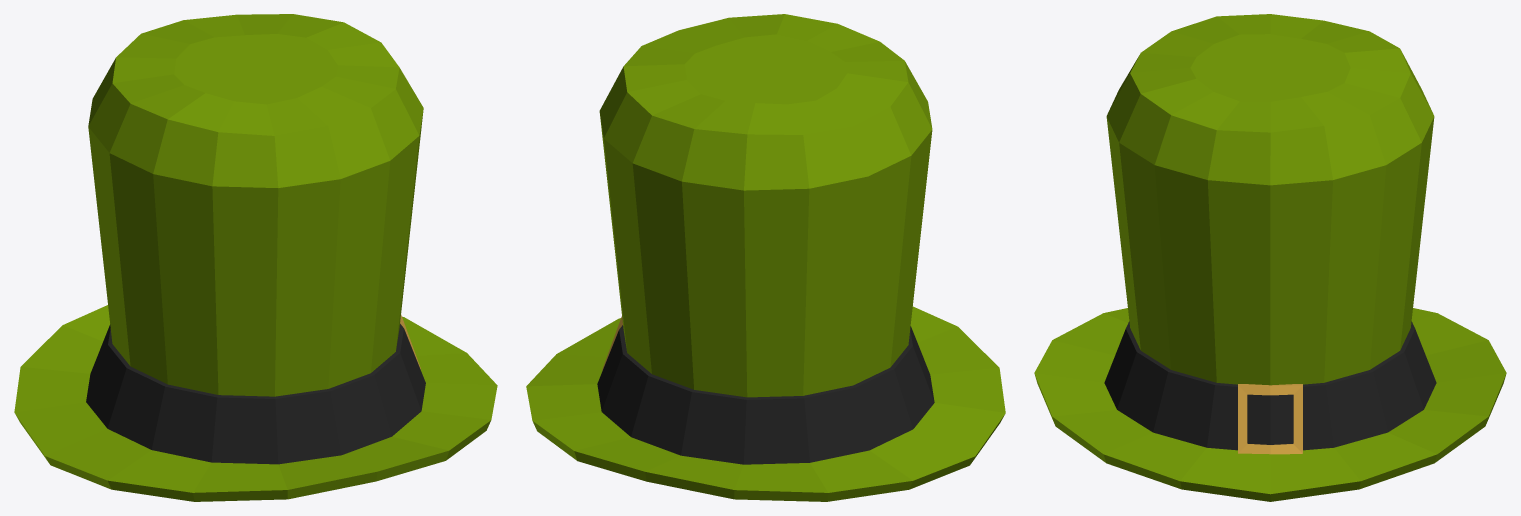
Rendered from irish_hat.glb.
The picture shows the model from 3 angles, left to right: view 1: azimuth 30°, elevation 25°; view 2: azimuth 150°, elevation 25°; view 3: azimuth 270°, elevation 25°; orthographic projection. The views are drawn at different scales.
Bounding box in the file's own units: 0.4 × 0.3167 × 0.4.
1 material, 1 textured.
